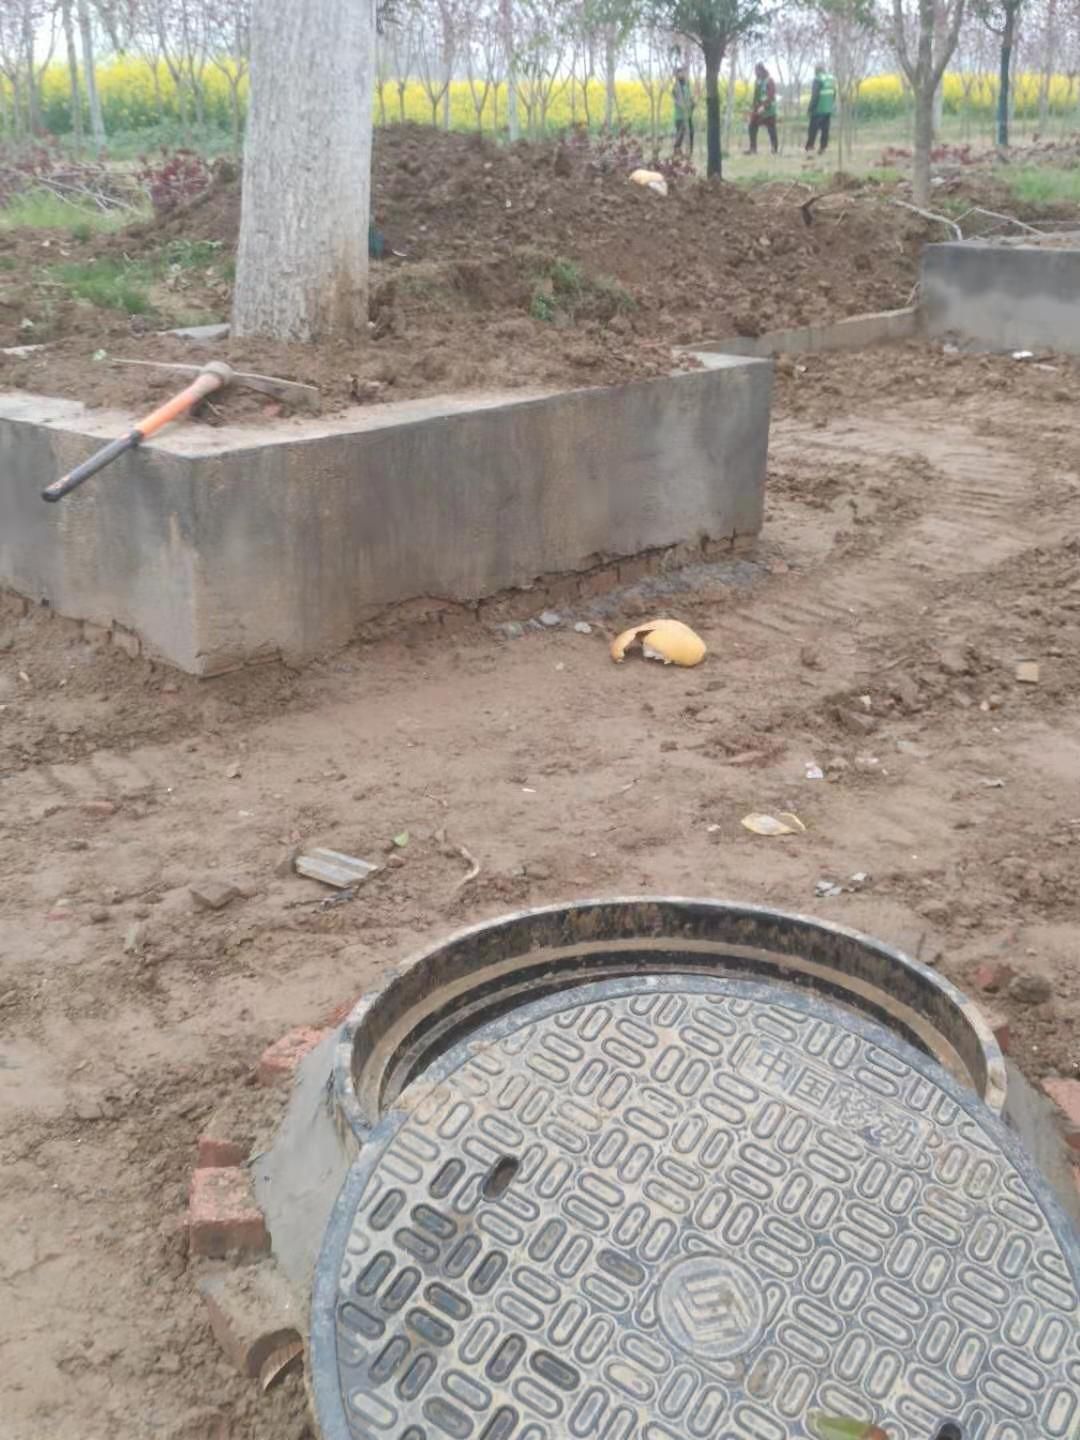uncovered: (299, 892, 1068, 1440)
